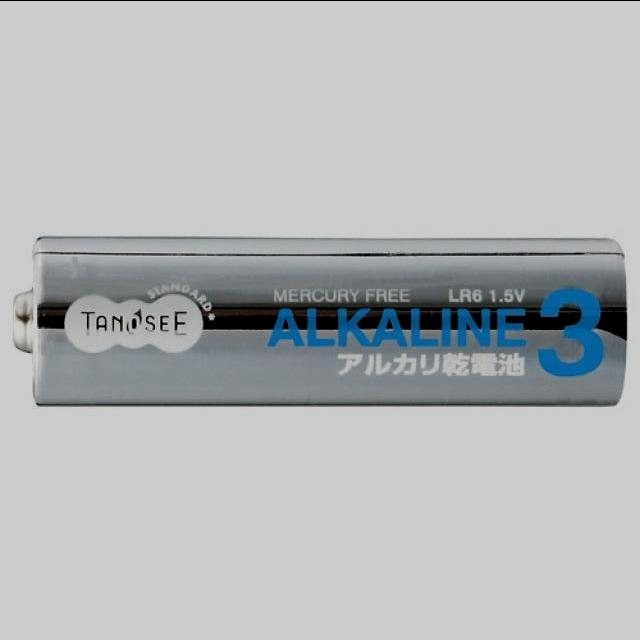AA: (9, 236, 639, 412)
